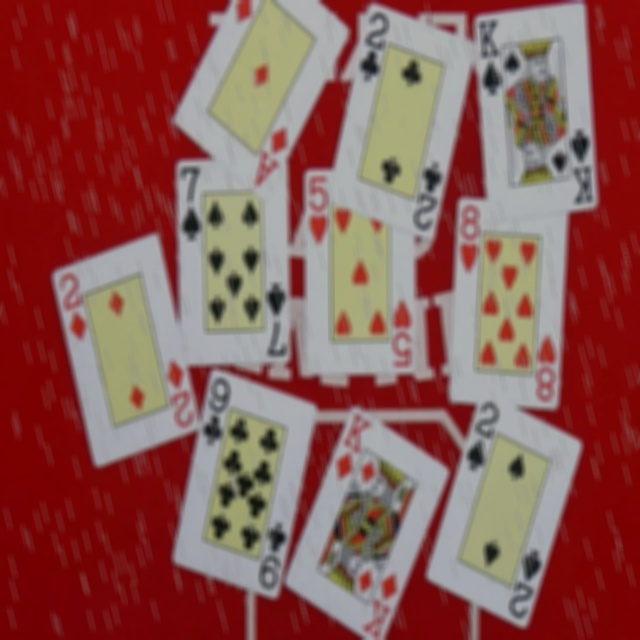2C: (349, 7, 390, 93), (410, 157, 446, 237)
2D: (50, 267, 92, 348), (158, 350, 198, 434)
2S: (505, 540, 546, 624), (458, 393, 498, 478)
5H: (298, 171, 333, 251), (384, 291, 418, 372)
7S: (169, 160, 210, 245), (255, 277, 295, 363)
8H: (530, 329, 563, 404), (454, 202, 486, 275)
9C: (254, 515, 290, 596), (195, 375, 231, 453)
KD: (322, 405, 370, 491), (360, 559, 404, 640)
KS: (470, 17, 505, 101), (566, 119, 598, 208)
